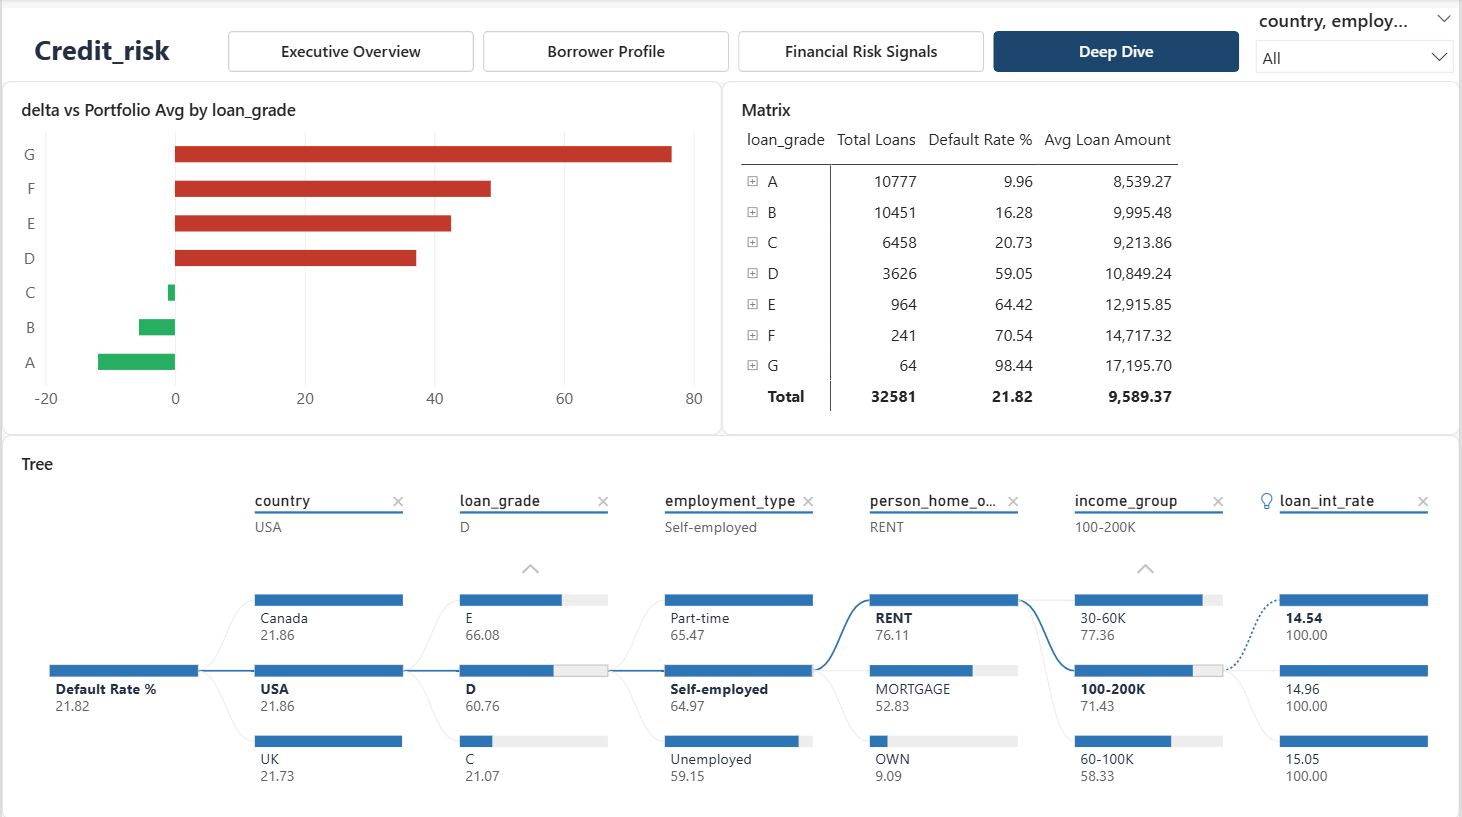

This screenshot's page, from the dashboard's own definition file:
{"tool":"powerbi","page":{"name":"Deep Dive","canvas":[1280,720],"ordinal":3},"visuals":[{"type":"shape","box":[0,8.1,1280,65],"z":0},{"type":"textbox","box":[15,27.3,145.6,37.9],"z":1000},{"type":"pageNavigator","box":[198.4,28.1,889.5,36.9],"z":2000},{"type":"slicer","fields":{"Values":["credit_risk_cleaned.country","credit_risk_cleaned.employment_type","credit_risk_cleaned.income_group","credit_risk_cleaned.loan_term_months"]},"box":[1095.8,7.9,184.4,65],"z":3000},{"type":"pivotTable","title":"Matrix","fields":{"Rows":["credit_risk_cleaned.loan_grade","credit_risk_cleaned.loan_intent","credit_risk_cleaned.employment_type"],"Values":["credit_risk_cleaned.Total Loans","credit_risk_cleaned.Default Rate %","credit_risk_cleaned.Avg Loan Amount"]},"box":[632.2,72,648,310.8],"z":3001},{"type":"clusteredBarChart","fields":{"Category":["credit_risk_cleaned.loan_grade"],"Y":["credit_risk_cleaned.delta vs Portfolio Avg"]},"box":[0,72,632.2,310.8],"z":3002},{"type":"decompositionTreeVisual","title":"Tree","fields":{"Analyze":["credit_risk_cleaned.Default Rate %"],"ExplainBy":["credit_risk_cleaned.country","credit_risk_cleaned.loan_grade","credit_risk_cleaned.employment_type","credit_risk_cleaned.person_home_ownership","credit_risk_cleaned.income_group","credit_risk_cleaned.loan_int_rate"]},"box":[0,382.8,1280.2,338],"z":3003}]}

Visuals, with their boxes in screenshot pixels (x1, y1, x2, y2), scaled from the page's 1280x720 canvas onto the 1462x817 screenshot:
shape: [0,9,1461,83]
textbox: [17,31,183,74]
pageNavigator: [227,32,1243,74]
slicer - credit_risk_cleaned.country x credit_risk_cleaned.employment_type: [1252,9,1461,83]
"Matrix" pivotTable: [722,82,1461,434]
clusteredBarChart - credit_risk_cleaned.loan_grade x credit_risk_cleaned.delta vs Portfolio Avg: [0,82,722,434]
"Tree" decompositionTreeVisual: [0,434,1461,816]
